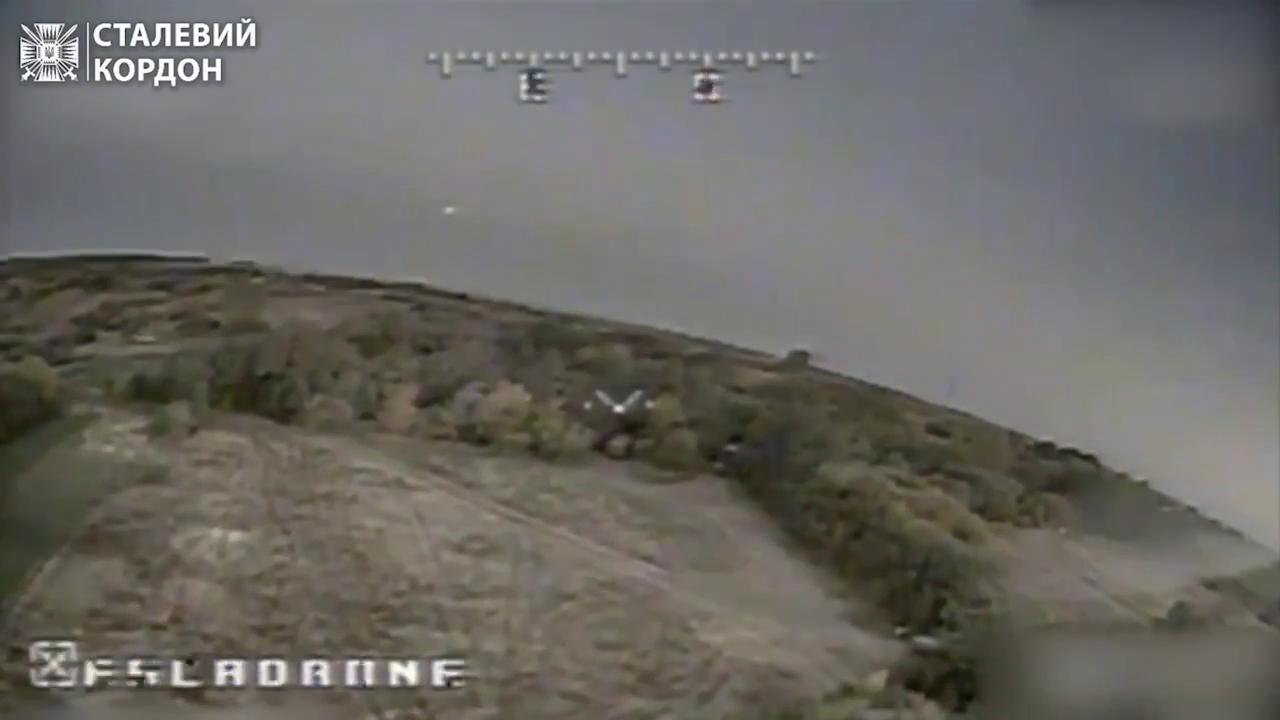tank: (600, 420, 638, 466)
